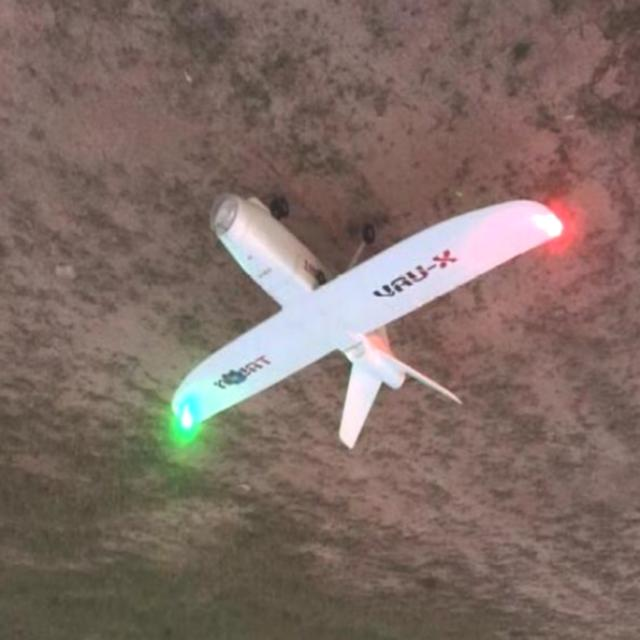plane: (170, 190, 564, 451)
